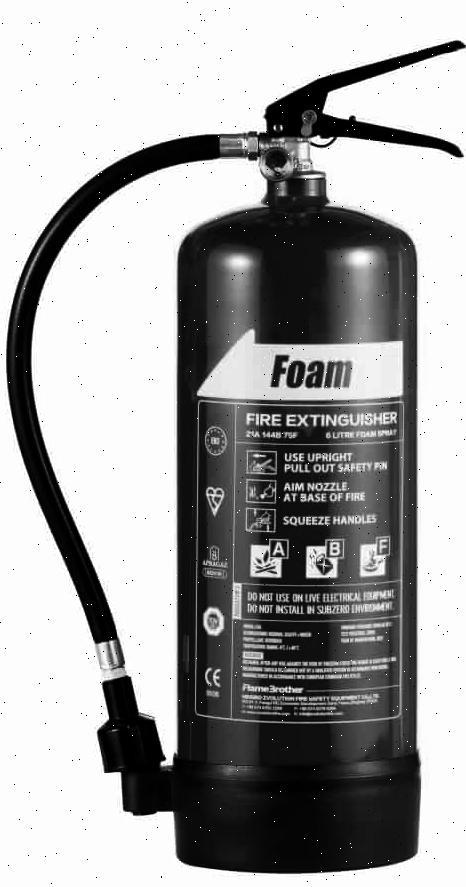Fire Extinguisher: (10, 42, 466, 862)
